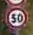limite 50: (3, 7, 28, 28)
